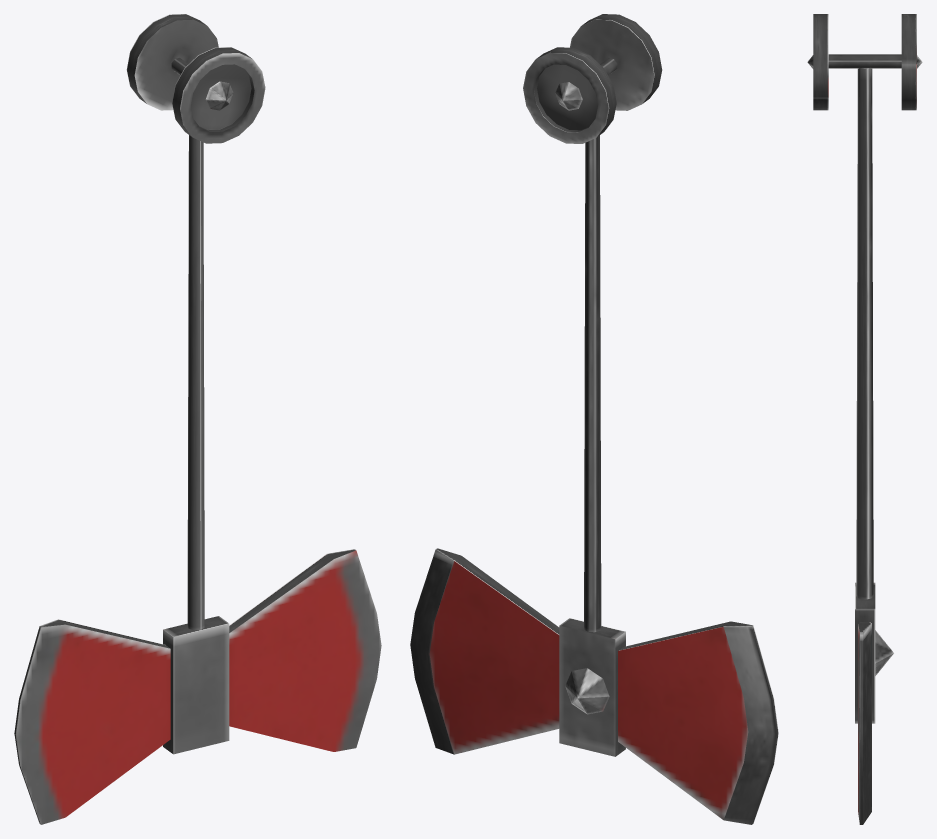
The model's file is AXE1.fbx.
3 renders of one model, left to right at view 1: azimuth 30°, elevation 25°; view 2: azimuth 150°, elevation 25°; view 3: azimuth 270°, elevation 25°, orthographic. The views are drawn at different scales.
Visible parts, largest first — view 1: axe; view 2: axe; view 3: axe.
Boxes of the visible parts, x1,y1,x2,y2 form: axe: (14, 14, 381, 824); axe: (410, 14, 778, 824); axe: (807, 14, 922, 824).
Size of the model in its own units: 2.85 by 5.59 by 0.798.
